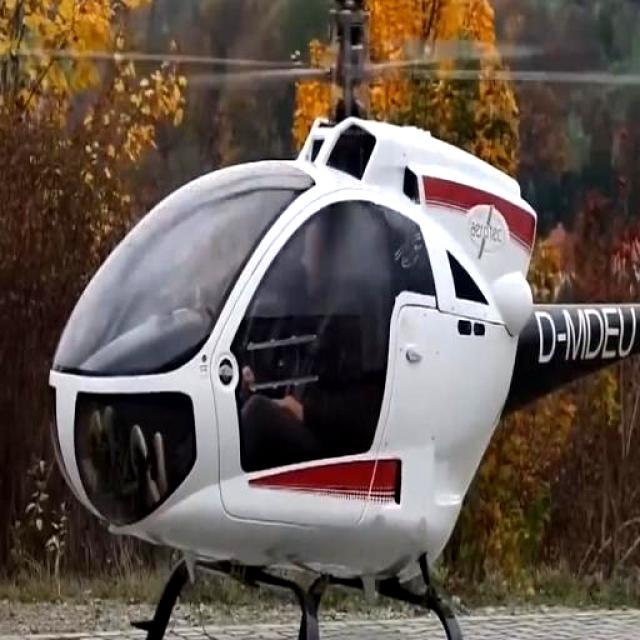drone: (19, 0, 640, 640)
